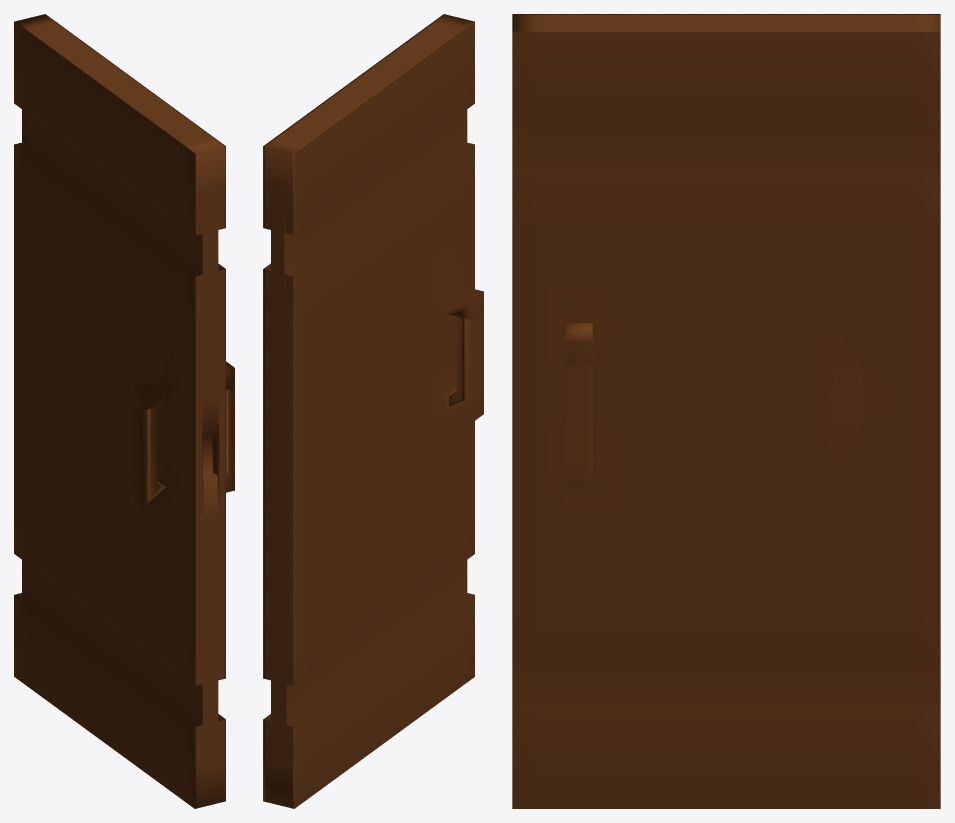
Rendered from puerta.glb.
3 views of the same model, side by side, from view 1: azimuth 30°, elevation 25°; view 2: azimuth 150°, elevation 25°; view 3: azimuth 270°, elevation 25° (orthographic). The views are drawn at different scales.
Parts seen in each view (by area): view 1: Cube; view 2: Cube; view 3: Cube.
Boxes of the visible parts, x1,y1,x2,y2 form: Cube: (14,14,234,808); Cube: (263,14,483,808); Cube: (512,14,940,808).
Size of the model in its own units: 0.6 by 4 by 2.
1 material, 1 textured.
